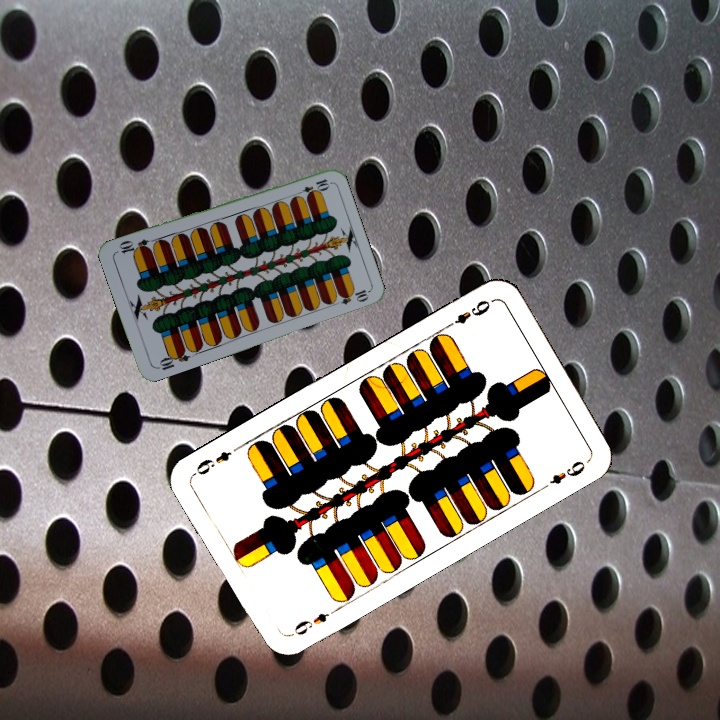E10: (153, 345, 192, 373), (292, 175, 332, 199)
E9: (441, 296, 493, 331), (285, 608, 332, 640)
